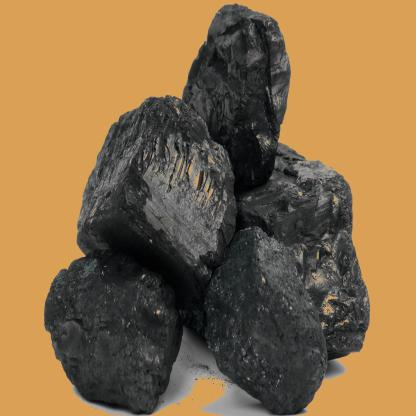Sedimentary_coal: (202, 139, 374, 408), (72, 83, 234, 303), (41, 240, 183, 416), (176, 4, 286, 193)
